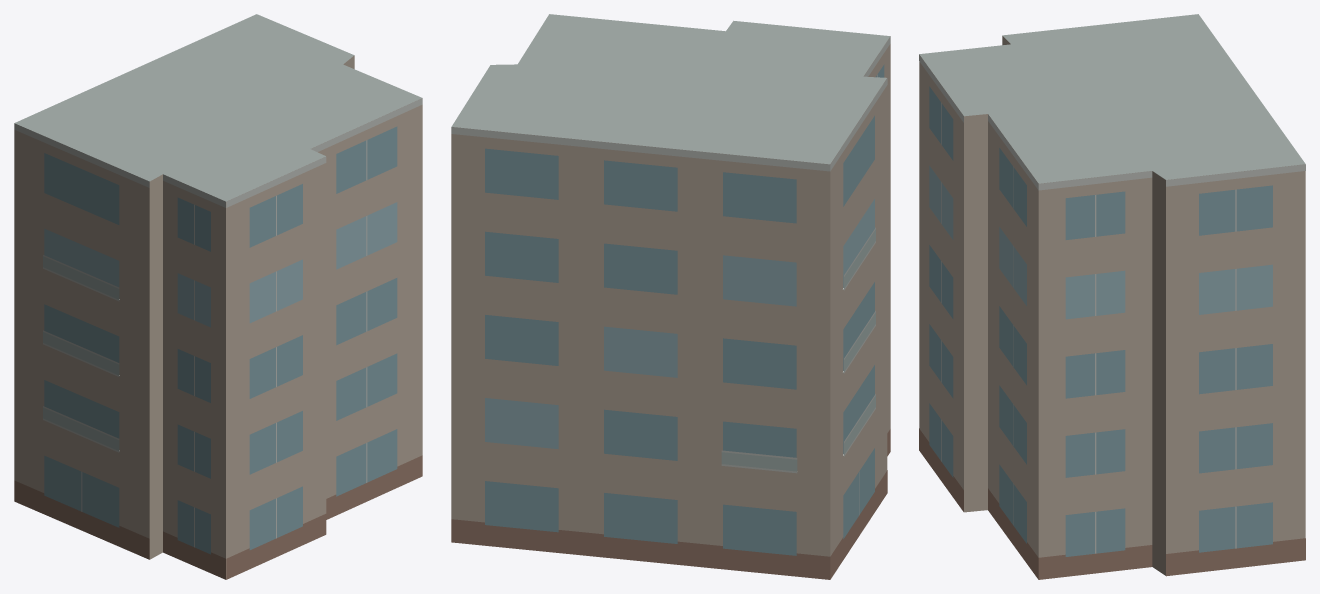
File: survey-upis-32845653.glb
The picture shows the model from 3 angles, left to right: view 1: azimuth 30°, elevation 25°; view 2: azimuth 150°, elevation 25°; view 3: azimuth 270°, elevation 25°; orthographic projection. The views are drawn at different scales.
Visible parts, largest first — view 1: survey-upis-32845653.tmp; view 2: survey-upis-32845653.tmp; view 3: survey-upis-32845653.tmp.
Part boxes in pixels (left/top/right/bottom): survey-upis-32845653.tmp: left=14, top=14, right=422, bottom=579; survey-upis-32845653.tmp: left=451, top=14, right=890, bottom=579; survey-upis-32845653.tmp: left=919, top=14, right=1305, bottom=579.
Size of the model in its own units: 13.1 by 14.25 by 12.62.
